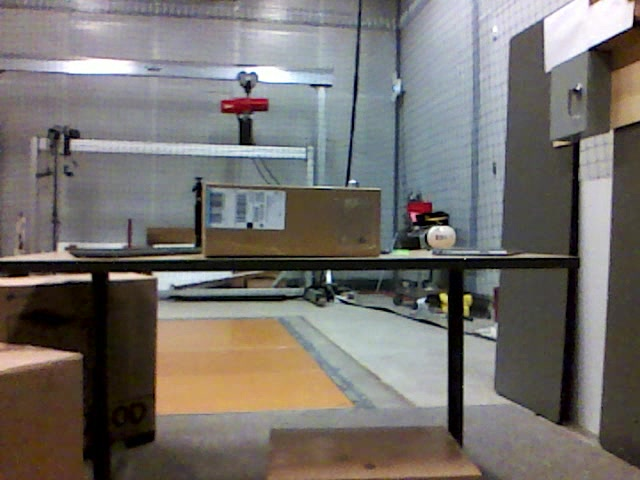box: (1, 279, 156, 446), (204, 184, 380, 259), (268, 427, 480, 480), (2, 347, 84, 477)
